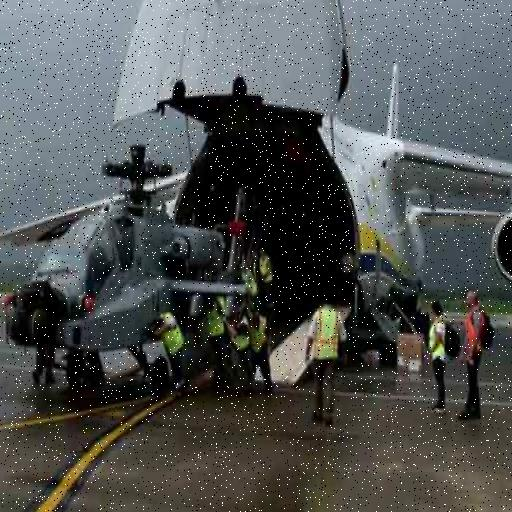helicopter: (5, 145, 260, 397)
